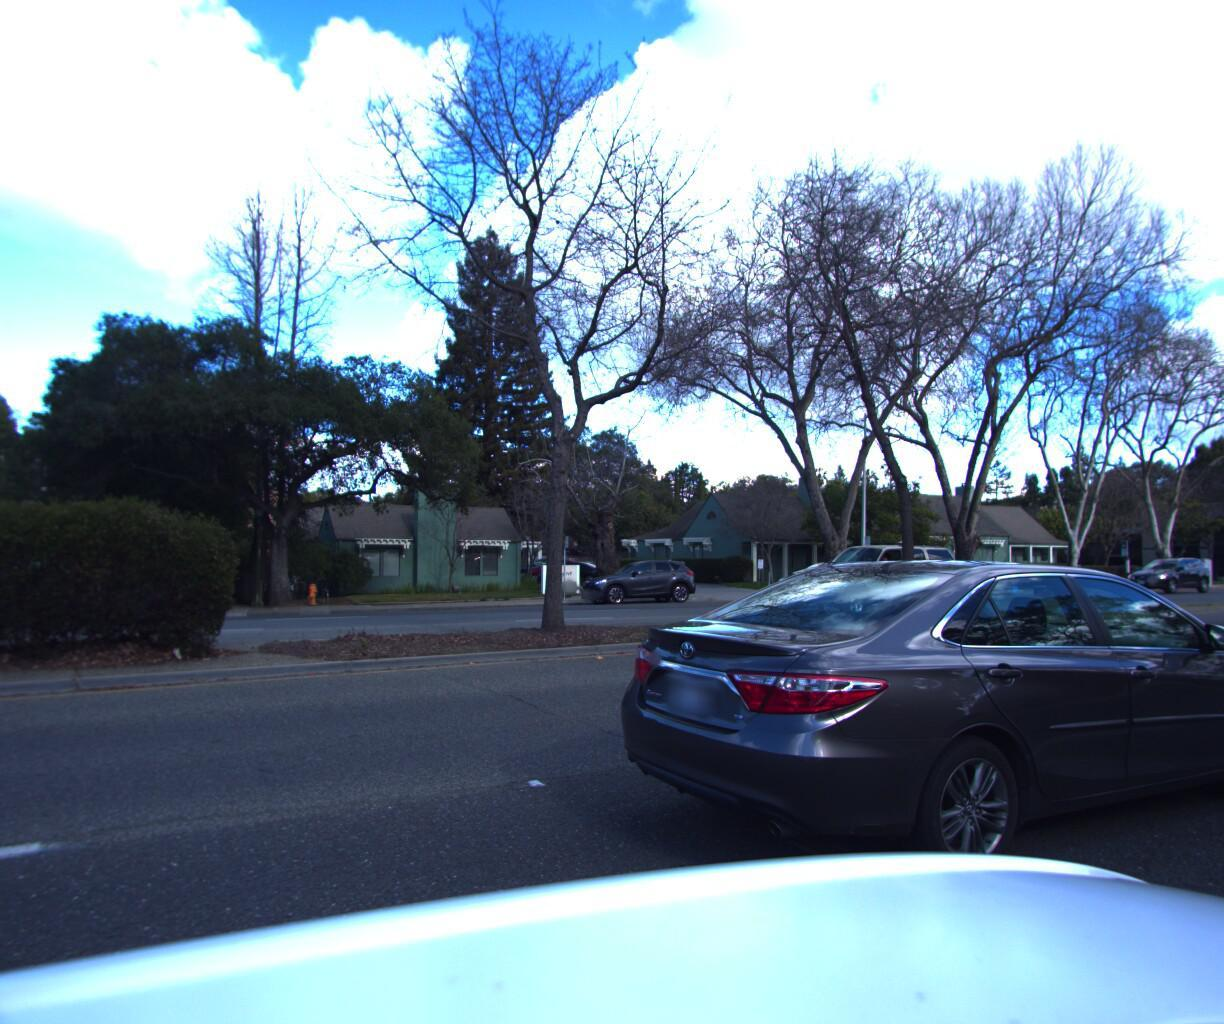car: (548, 528, 1224, 964), (774, 536, 968, 615), (762, 554, 894, 602), (576, 555, 703, 602), (1113, 552, 1214, 590)
